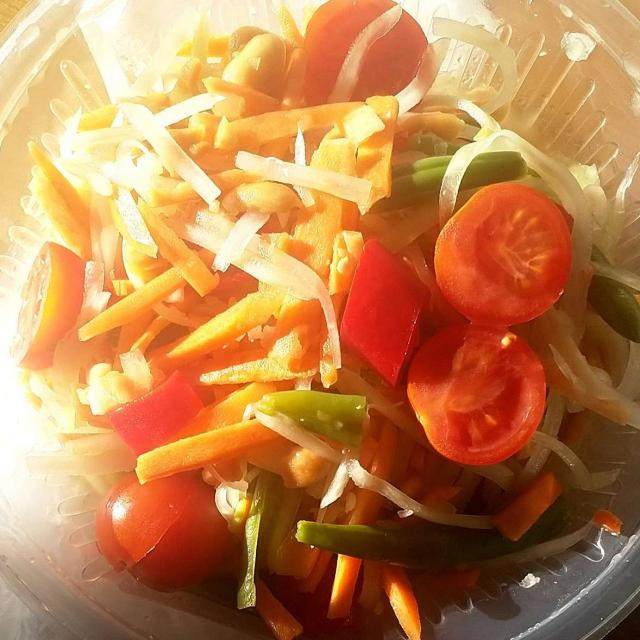carrot-raw: (88, 90, 429, 506)
tomato-raw: (8, 3, 573, 591)
